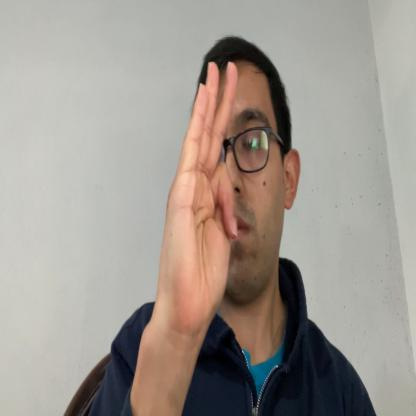F: (161, 63, 239, 328)
